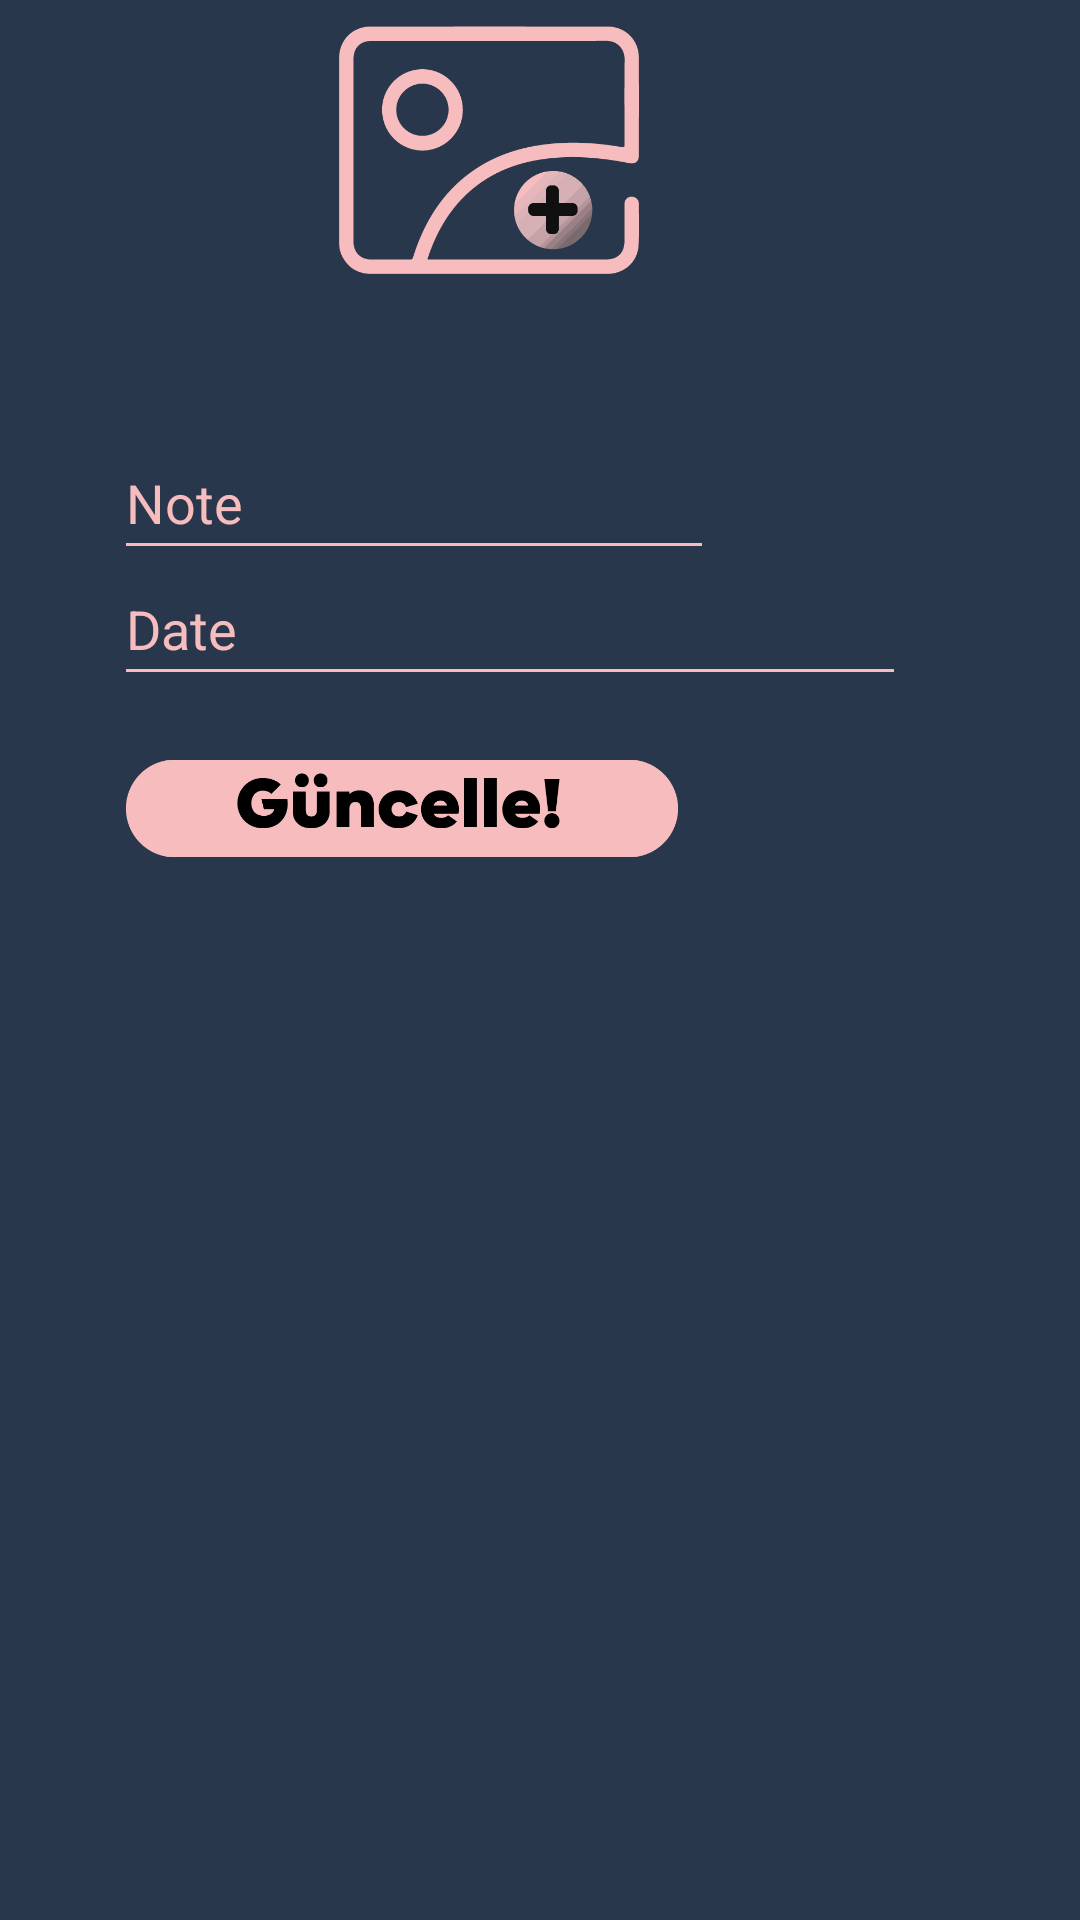

Icons on this 1080px×1920px Android screen, each with the point to tap as point (x, y):
photoadded: point (489, 150)
